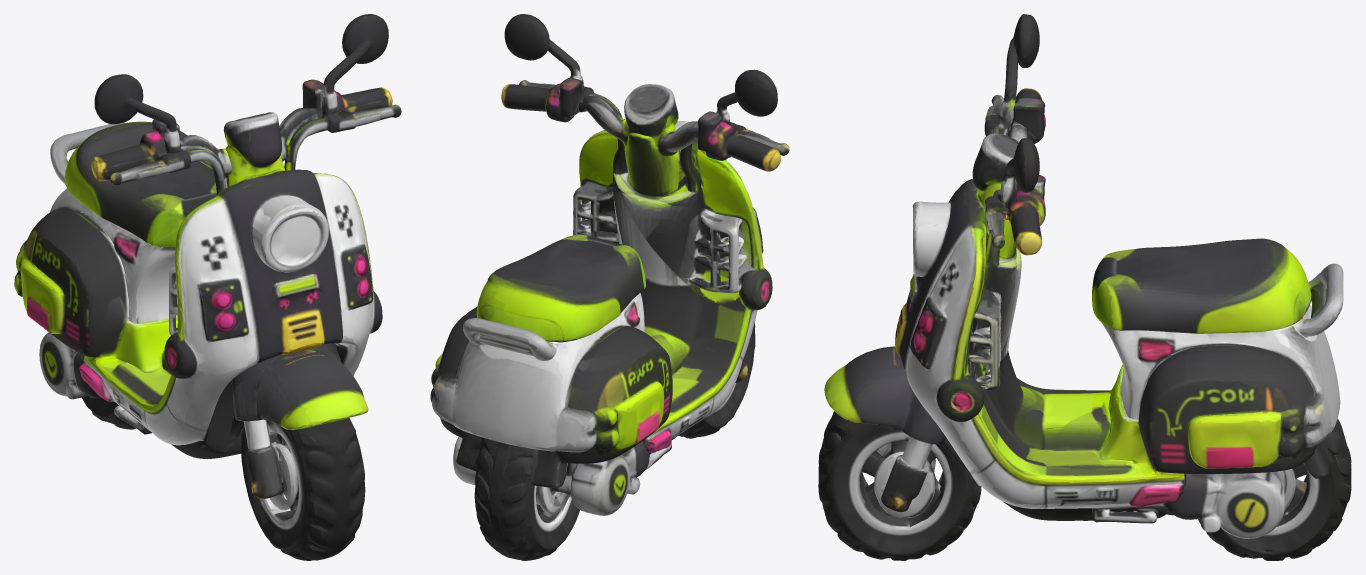
File: u_prp_scooter.glb
The picture shows the model from 3 angles, left to right: view 1: azimuth 30°, elevation 25°; view 2: azimuth 150°, elevation 25°; view 3: azimuth 270°, elevation 25°; orthographic projection. The views are drawn at different scales.
Visible parts, largest first — view 1: geometry_0; view 2: geometry_0; view 3: geometry_0.
Part boxes in pixels (x1,y1,x2,y2): geometry_0: (14, 14, 401, 560); geometry_0: (430, 14, 789, 560); geometry_0: (818, 14, 1351, 560).
Size of the model in its own units: 1.8 by 2.68 by 2.71.
Materials: 1 (1 with a texture image).
